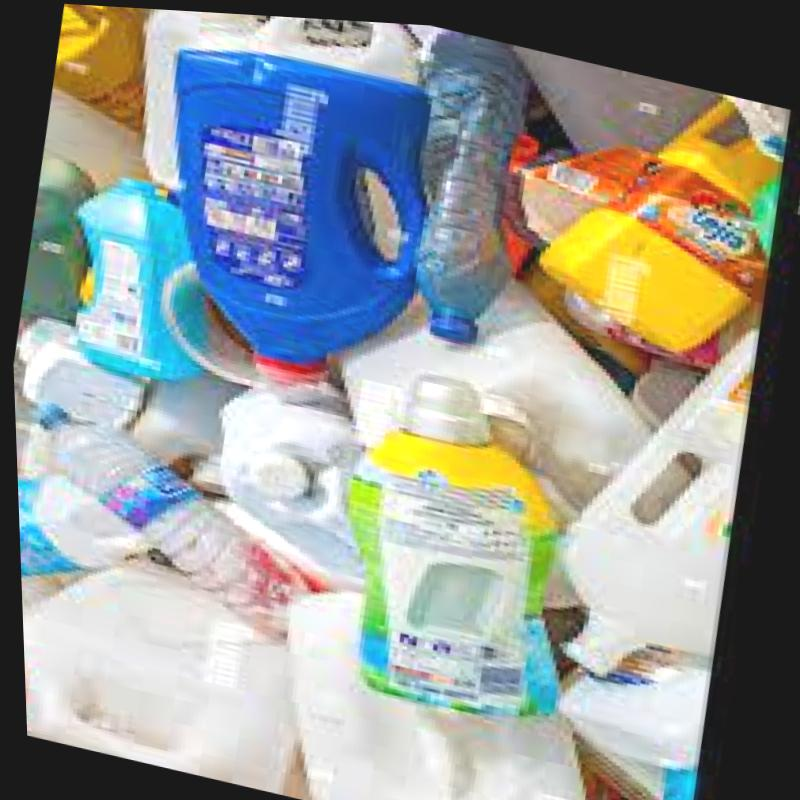botella: (12, 397, 338, 648), (370, 19, 555, 349)
